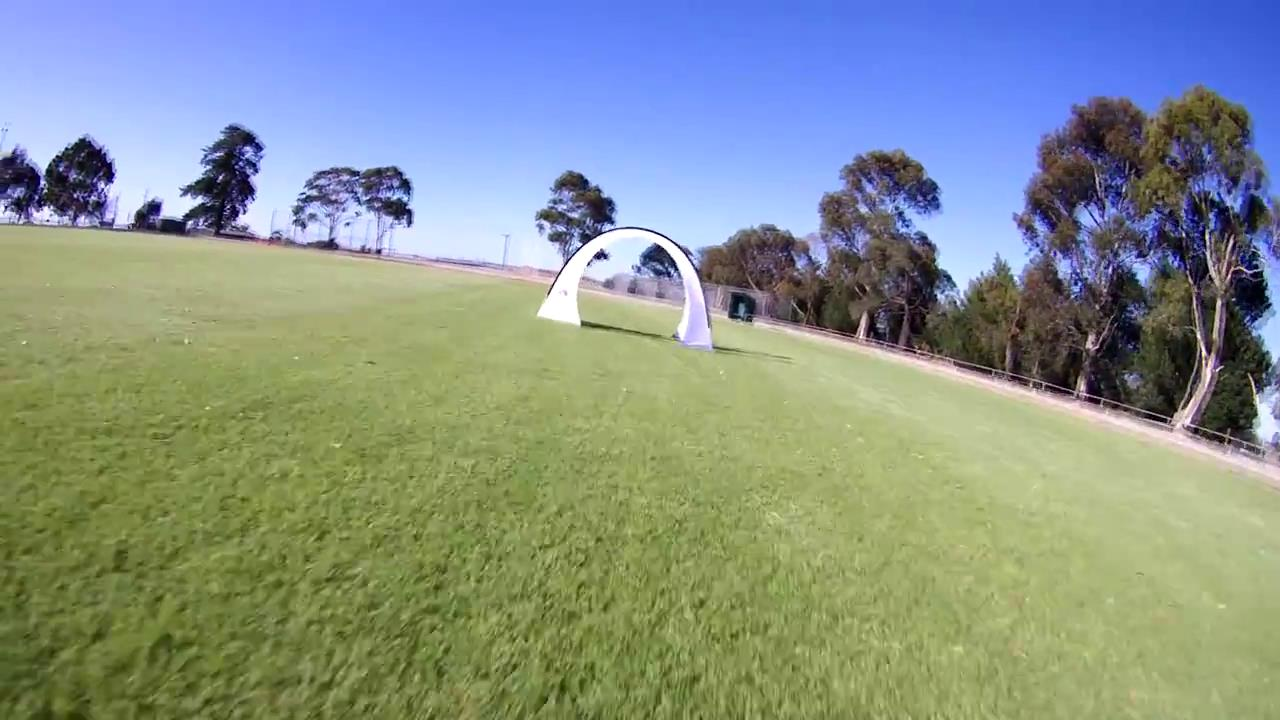gate: (533, 223, 715, 351)
